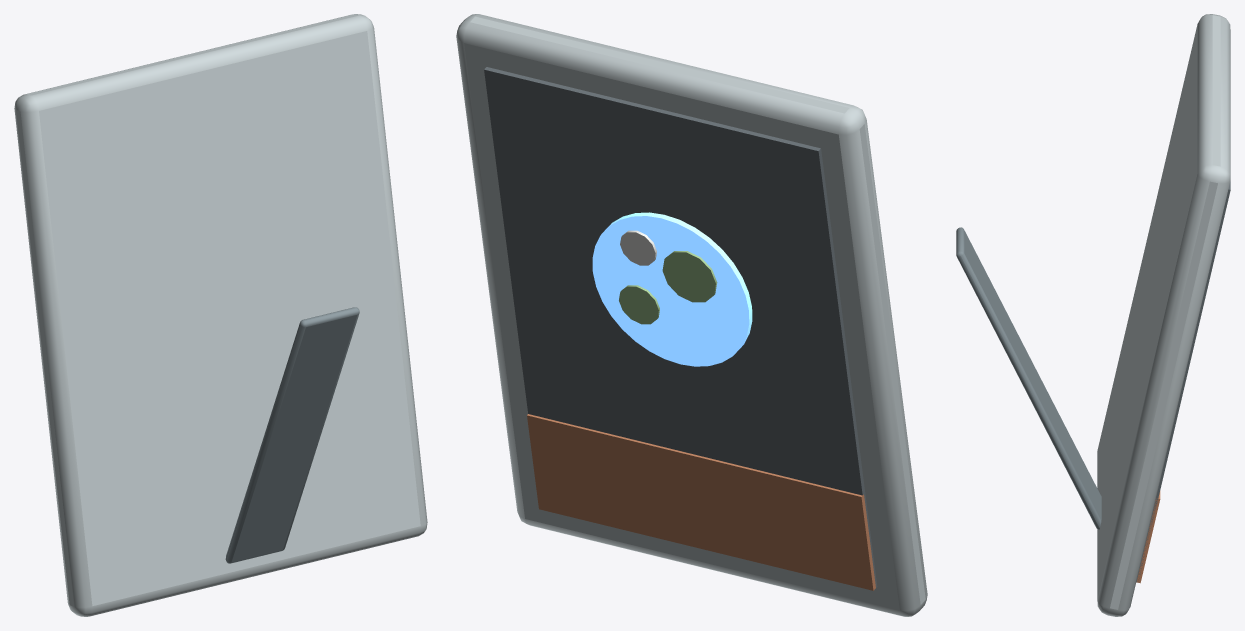
Rendered from photo_frame.glb.
3 renders of one model, left to right at view 1: azimuth 30°, elevation 25°; view 2: azimuth 150°, elevation 25°; view 3: azimuth 270°, elevation 25°, orthographic. The views are drawn at different scales.
Visible parts, largest first — view 1: frame_alloy, leg_dark_alloy; view 2: photo_graphite, frame_alloy, horizon_regolith, earth_earth_blue, land_leaf_light, cloud_white_painted; view 3: frame_alloy, leg_dark_alloy, photo_graphite, horizon_regolith.
Part boxes in pixels (x1,y1,x2,y2): frame_alloy: (14,14,427,616); leg_dark_alloy: (225,307,359,563); photo_graphite: (484,67,877,587); frame_alloy: (456,14,927,616); horizon_regolith: (527,414,875,590); earth_earth_blue: (592,212,752,366); land_leaf_light: (619,251,717,324); cloud_white_painted: (620,230,656,265); frame_alloy: (1097,14,1230,616); leg_dark_alloy: (956,227,1101,529); photo_graphite: (1136,181,1230,582); horizon_regolith: (1136,491,1160,583).
Bounding box in the file's own units: 0.18 × 0.2356 × 0.13.
